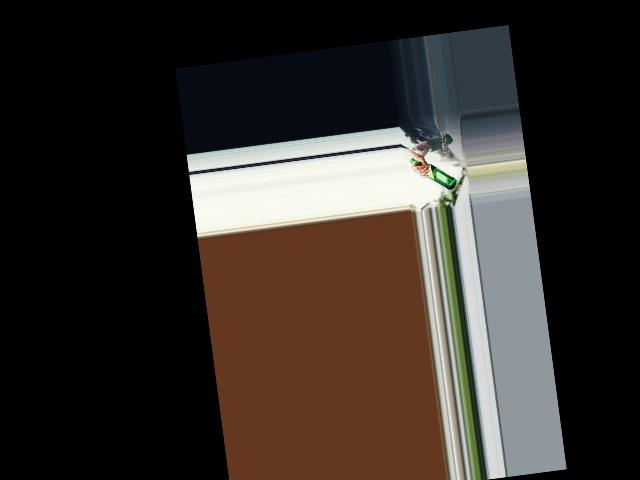beer: (410, 152, 457, 193)
